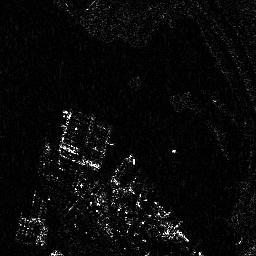ship: (111, 153, 132, 183)
